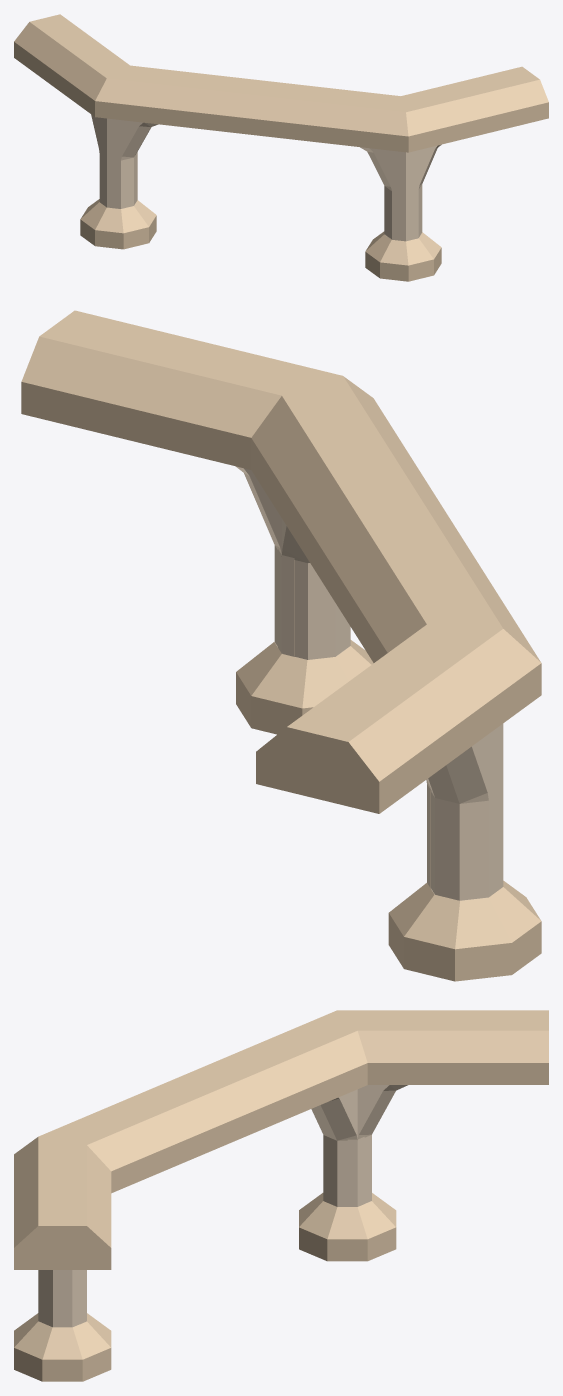
The model's file is opengameart-modular-temple-3d-models_2.glb.
3 views of the same model, one above another, from view 1: azimuth 30°, elevation 25°; view 2: azimuth 150°, elevation 25°; view 3: azimuth 270°, elevation 25° (orthographic). The views are drawn at different scales.
Parts seen in each view (by area): view 1: object1; view 2: object1; view 3: object1.
Boxes of the visible parts, x1,y1,x2,y2 form: object1: (14,14,548,281); object1: (21,310,541,981); object1: (14,1010,548,1381).
Bounding box in the file's own units: 1.1 × 0.5 × 1.1.
